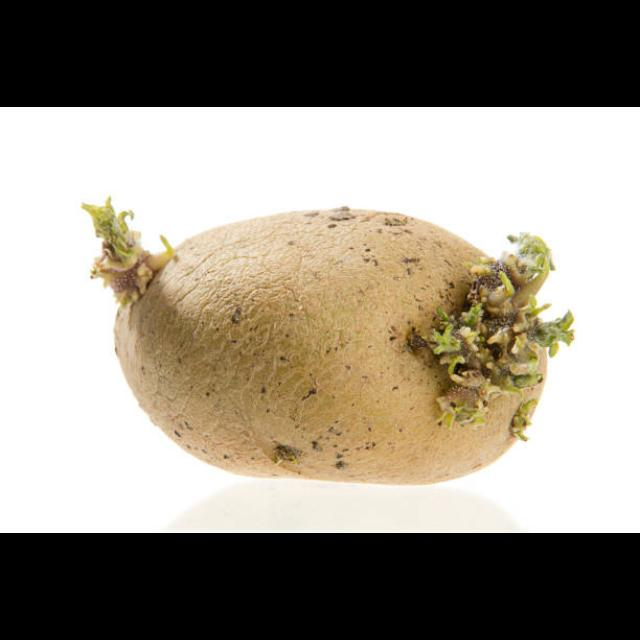Sprouted potato: (58, 172, 570, 494)
